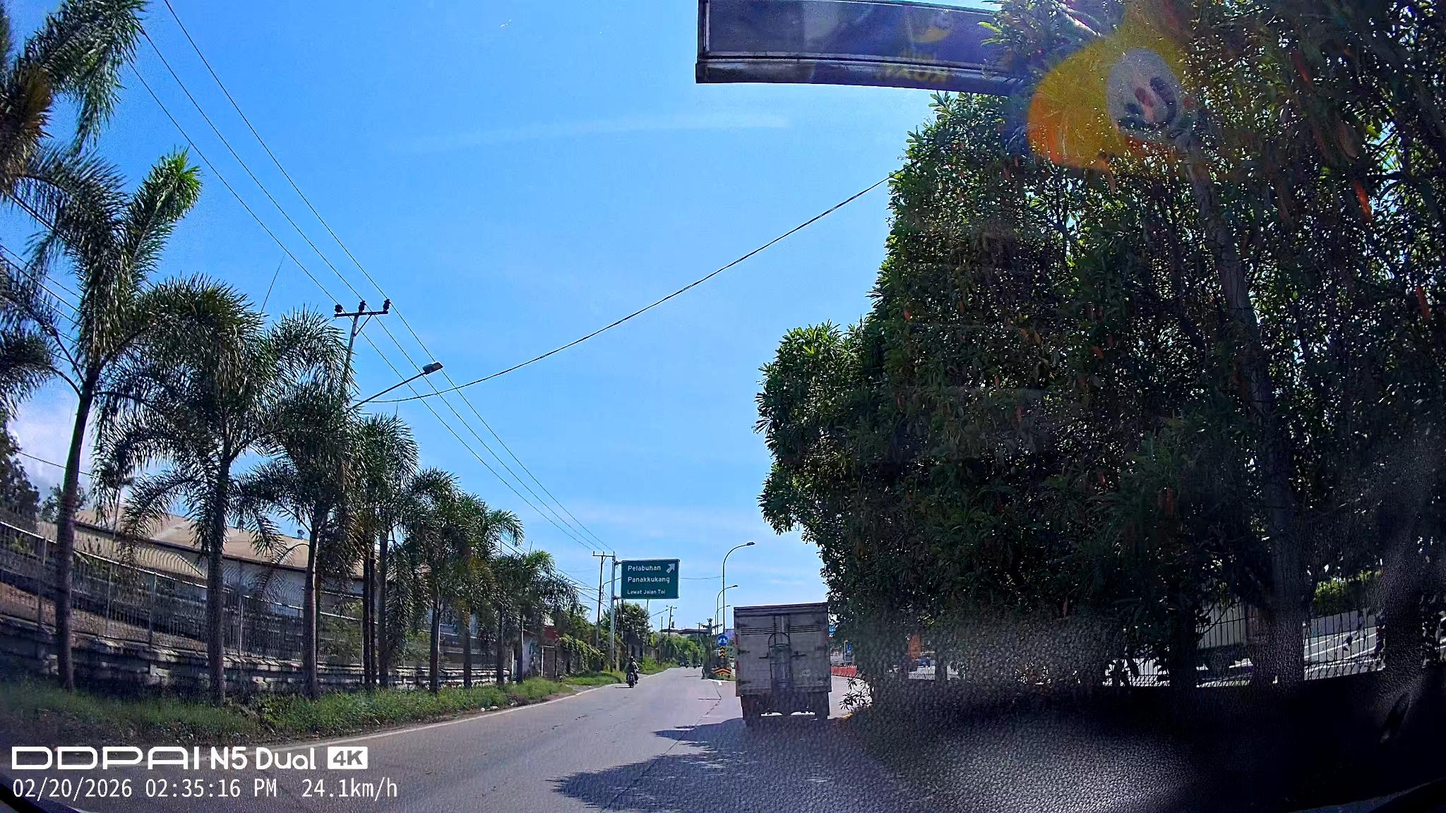rambu_teks: (621, 558, 680, 600)
